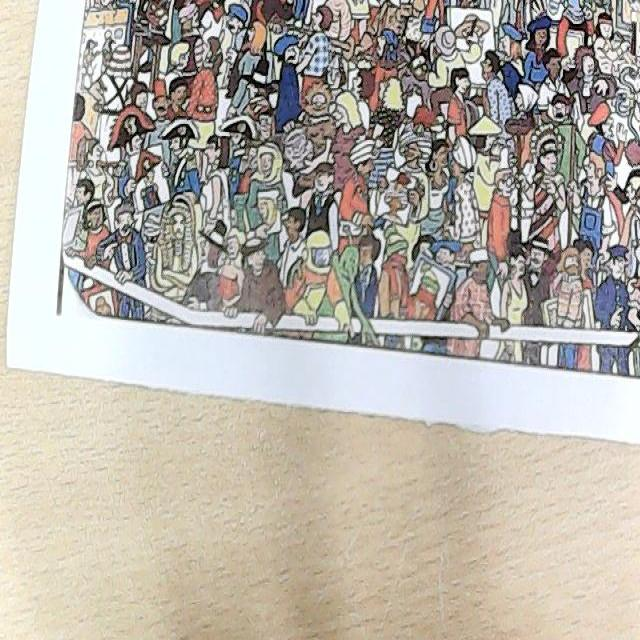waldo: (249, 98, 274, 147)
